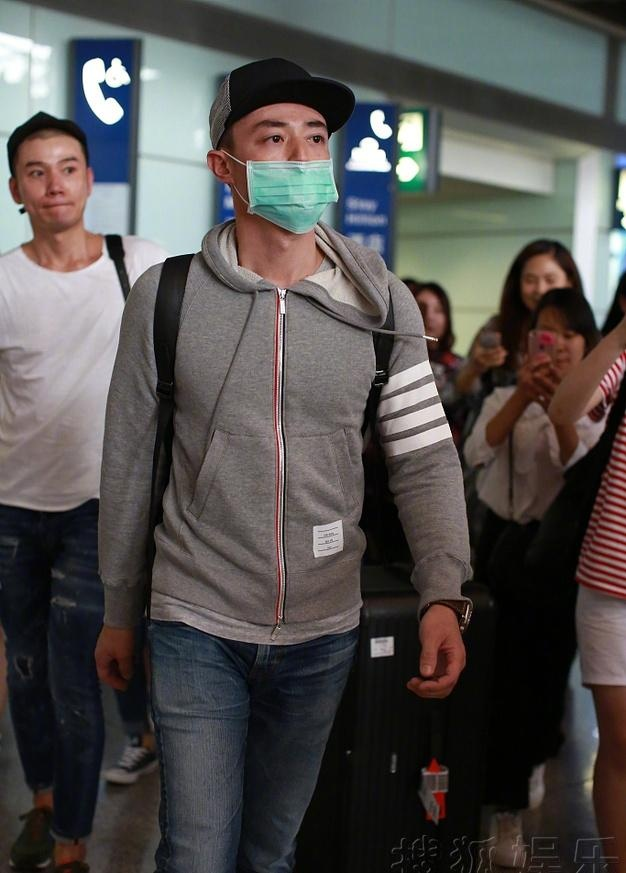Mask: (240, 116, 352, 227)
